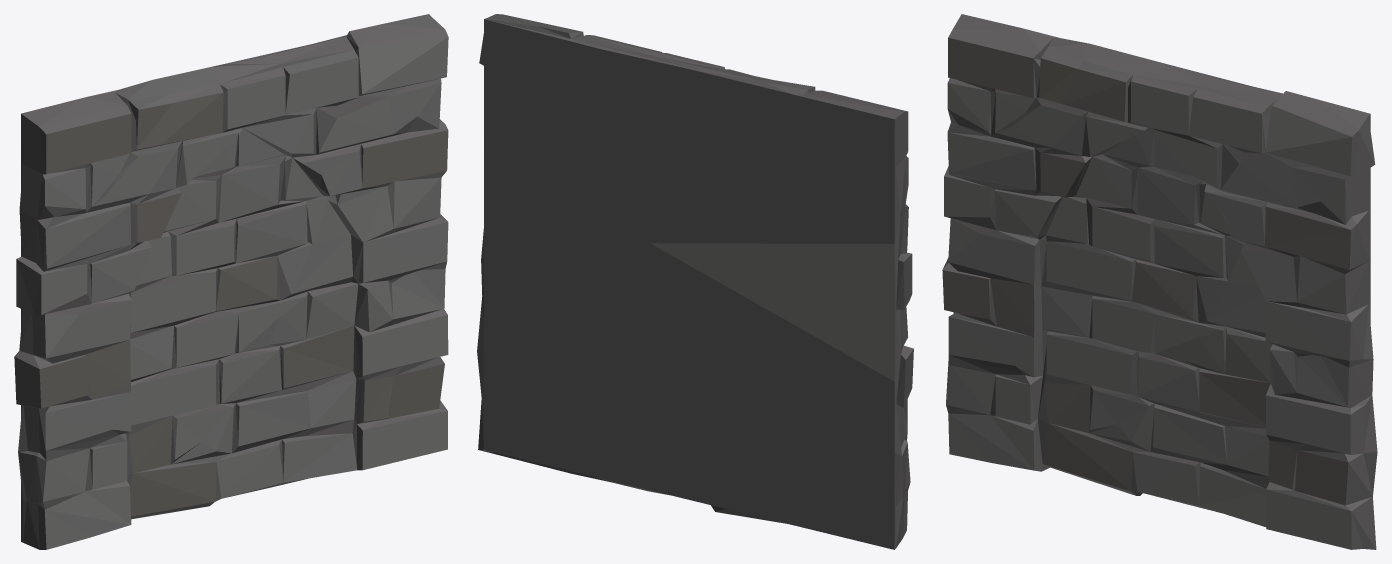
File: SM_Env_Wall_05.FBX
3 views of the same model, side by side, from view 1: azimuth 30°, elevation 25°; view 2: azimuth 150°, elevation 25°; view 3: azimuth 330°, elevation 25° (orthographic).
Parts seen in each view (by area): view 1: SM_Env_Wall_05; view 2: SM_Env_Wall_05; view 3: SM_Env_Wall_05.
Boxes of the visible parts, x1,y1,x2,y2 form: SM_Env_Wall_05: (14, 14, 448, 549); SM_Env_Wall_05: (477, 14, 913, 549); SM_Env_Wall_05: (942, 14, 1377, 549).
Size of what is drawn, in the model's own units: 534 by 42.76 by 527.
